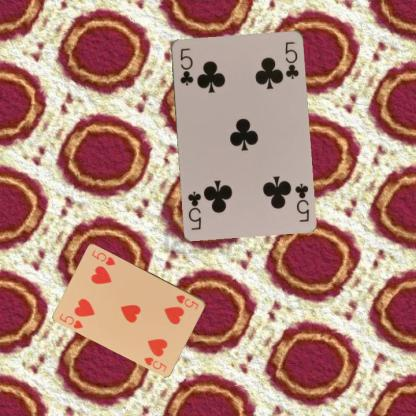5c: (292, 181, 310, 223), (177, 45, 194, 87)
5h: (58, 310, 84, 330), (173, 292, 200, 311)
